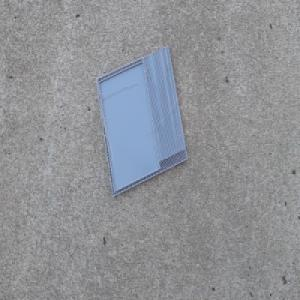PlasticPart: (94, 44, 189, 198)
